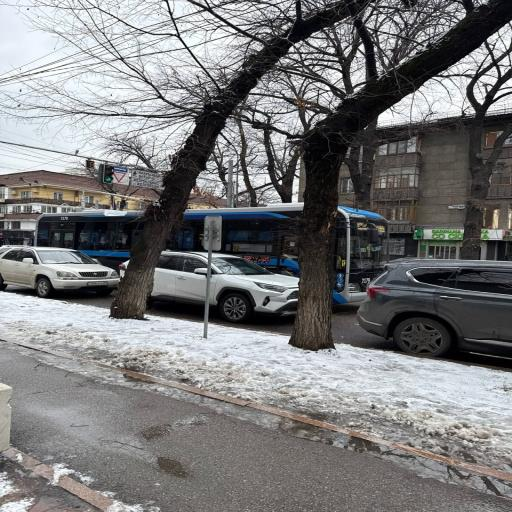book: (357, 258, 512, 357), (120, 251, 298, 322), (0, 246, 119, 298)
